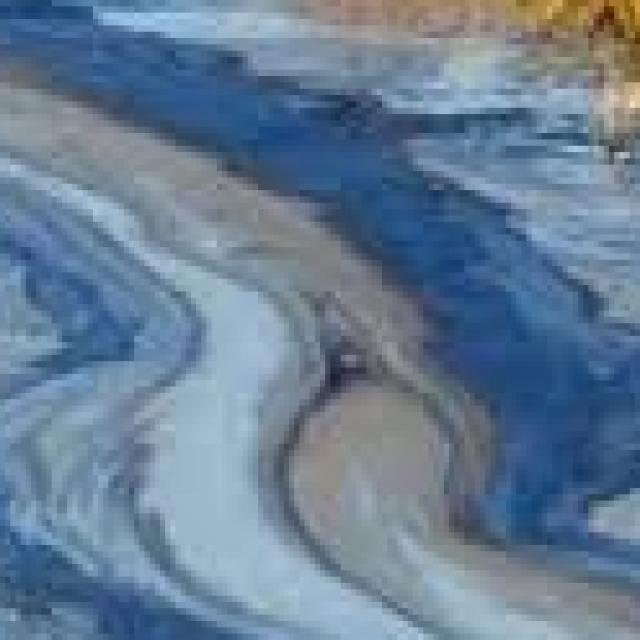-: (170, 0, 418, 640), (537, 158, 640, 640)
